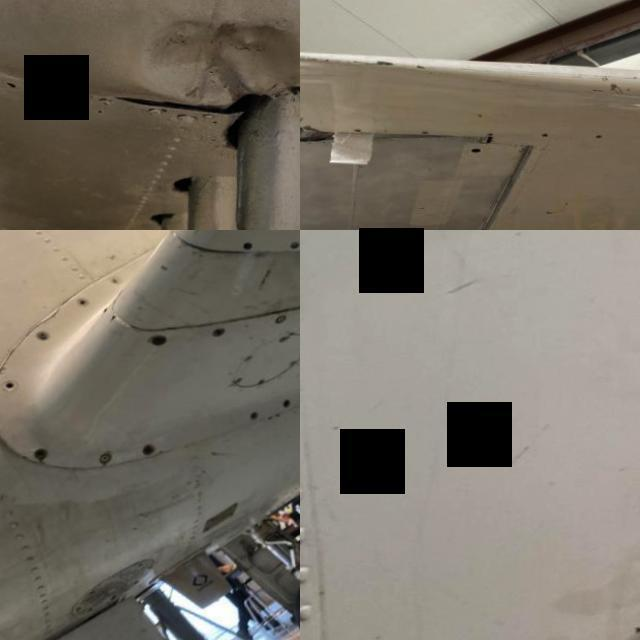Crack: (567, 67, 640, 90), (113, 312, 123, 324)
Dent: (128, 0, 300, 126)
Missing_Fastener: (5, 380, 22, 393), (156, 334, 170, 346), (38, 447, 52, 459), (146, 442, 160, 454), (243, 240, 255, 250), (215, 326, 228, 334), (289, 239, 300, 247), (80, 298, 91, 305), (286, 398, 296, 405), (255, 410, 262, 417), (598, 133, 606, 138), (542, 132, 552, 136), (489, 131, 497, 135)
